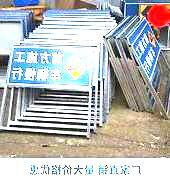sign: (9, 48, 92, 89), (136, 30, 159, 76)
